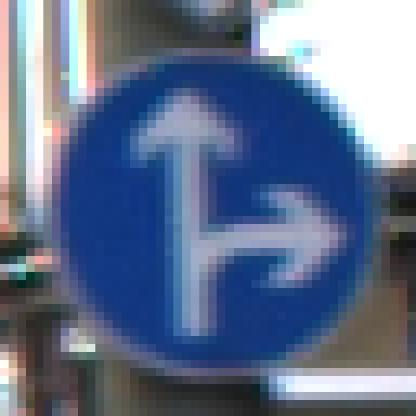Straight or Right: (44, 41, 374, 369)
